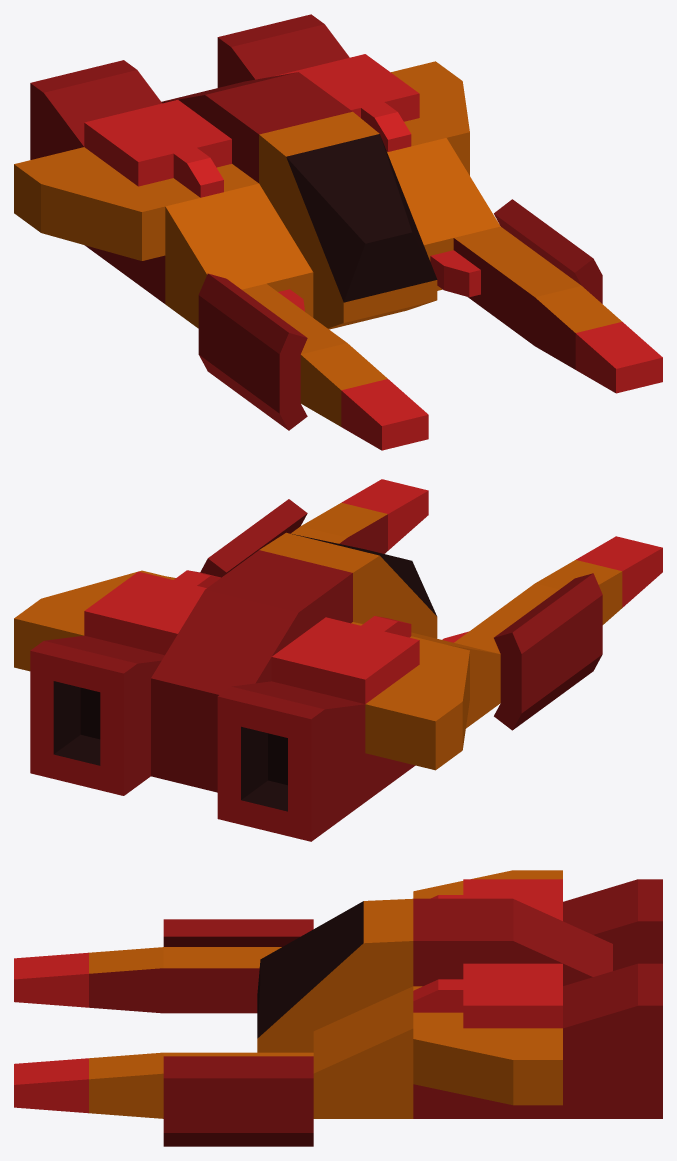
The model's file is aggressive.dae.
3 views of the same model, one above another, from view 1: azimuth 30°, elevation 25°; view 2: azimuth 150°, elevation 25°; view 3: azimuth 270°, elevation 25° (orthographic). The views are drawn at different scales.
Visible parts, largest first — view 1: craft_miner; view 2: craft_miner; view 3: craft_miner.
Boxes of the visible parts, x1,y1,x2,y2 form: craft_miner: (14,14,662,450); craft_miner: (14,479,662,841); craft_miner: (14,870,662,1146).
Bounding box in the file's own units: 1.8 × 0.7 × 2.6.
